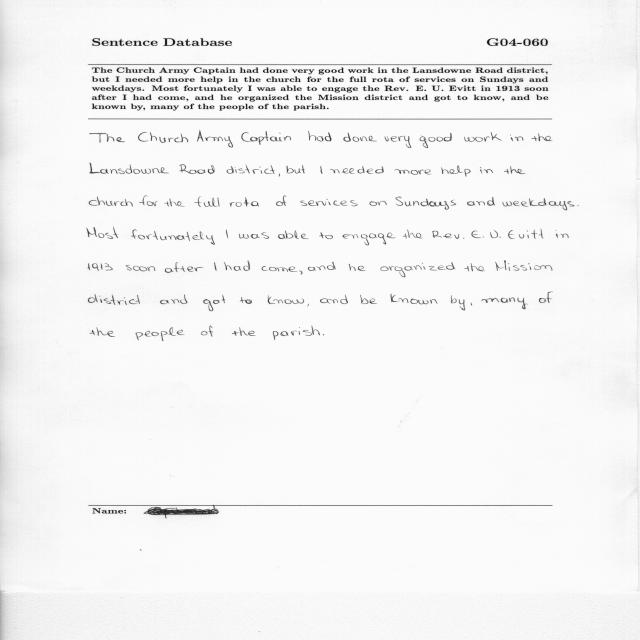word: (131, 230, 215, 245), (381, 263, 456, 278), (90, 163, 169, 174), (503, 198, 575, 210), (396, 197, 456, 210), (342, 233, 396, 246), (241, 131, 291, 145), (135, 327, 185, 341), (273, 326, 320, 340), (495, 260, 553, 271), (197, 131, 233, 148), (88, 294, 140, 305), (481, 298, 528, 310), (138, 132, 188, 143), (419, 133, 452, 148), (89, 196, 133, 207), (391, 294, 437, 304), (226, 165, 275, 174), (330, 166, 384, 174), (165, 262, 203, 273), (300, 199, 358, 206), (464, 132, 502, 142), (87, 227, 118, 239), (179, 164, 215, 174), (204, 295, 226, 311), (90, 133, 125, 143), (441, 166, 471, 177), (385, 136, 412, 148), (268, 296, 304, 305), (344, 133, 378, 142), (230, 197, 259, 207), (194, 196, 220, 207), (224, 260, 250, 271), (278, 230, 309, 239), (160, 295, 187, 305), (432, 231, 464, 239), (467, 197, 495, 206), (308, 262, 336, 271), (320, 295, 348, 304), (90, 327, 115, 337), (519, 229, 543, 239), (308, 131, 331, 141), (490, 230, 515, 239), (395, 169, 431, 175), (262, 266, 298, 272), (232, 327, 256, 336), (239, 232, 269, 239), (451, 296, 465, 311), (88, 263, 113, 271), (139, 196, 157, 206), (403, 230, 423, 239), (126, 265, 155, 271), (286, 165, 305, 174), (532, 133, 553, 141), (504, 166, 525, 174), (164, 199, 185, 207), (464, 263, 485, 271), (539, 292, 553, 303), (360, 295, 377, 304), (201, 326, 213, 337), (349, 264, 366, 271), (276, 196, 286, 206), (319, 232, 333, 239), (556, 230, 568, 238), (480, 167, 493, 174), (471, 231, 484, 238), (369, 201, 387, 206), (240, 297, 252, 304), (510, 135, 523, 141), (214, 262, 217, 271), (226, 230, 228, 239), (321, 166, 323, 174), (299, 271, 303, 275), (279, 173, 280, 177), (307, 304, 309, 306), (577, 205, 579, 206), (471, 303, 472, 305), (323, 334, 324, 335)
